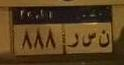8: (45, 27, 56, 51), (33, 27, 44, 51), (21, 27, 32, 51)
noon: (98, 27, 110, 50)
raa: (66, 31, 80, 49)
seen: (81, 29, 97, 49)
